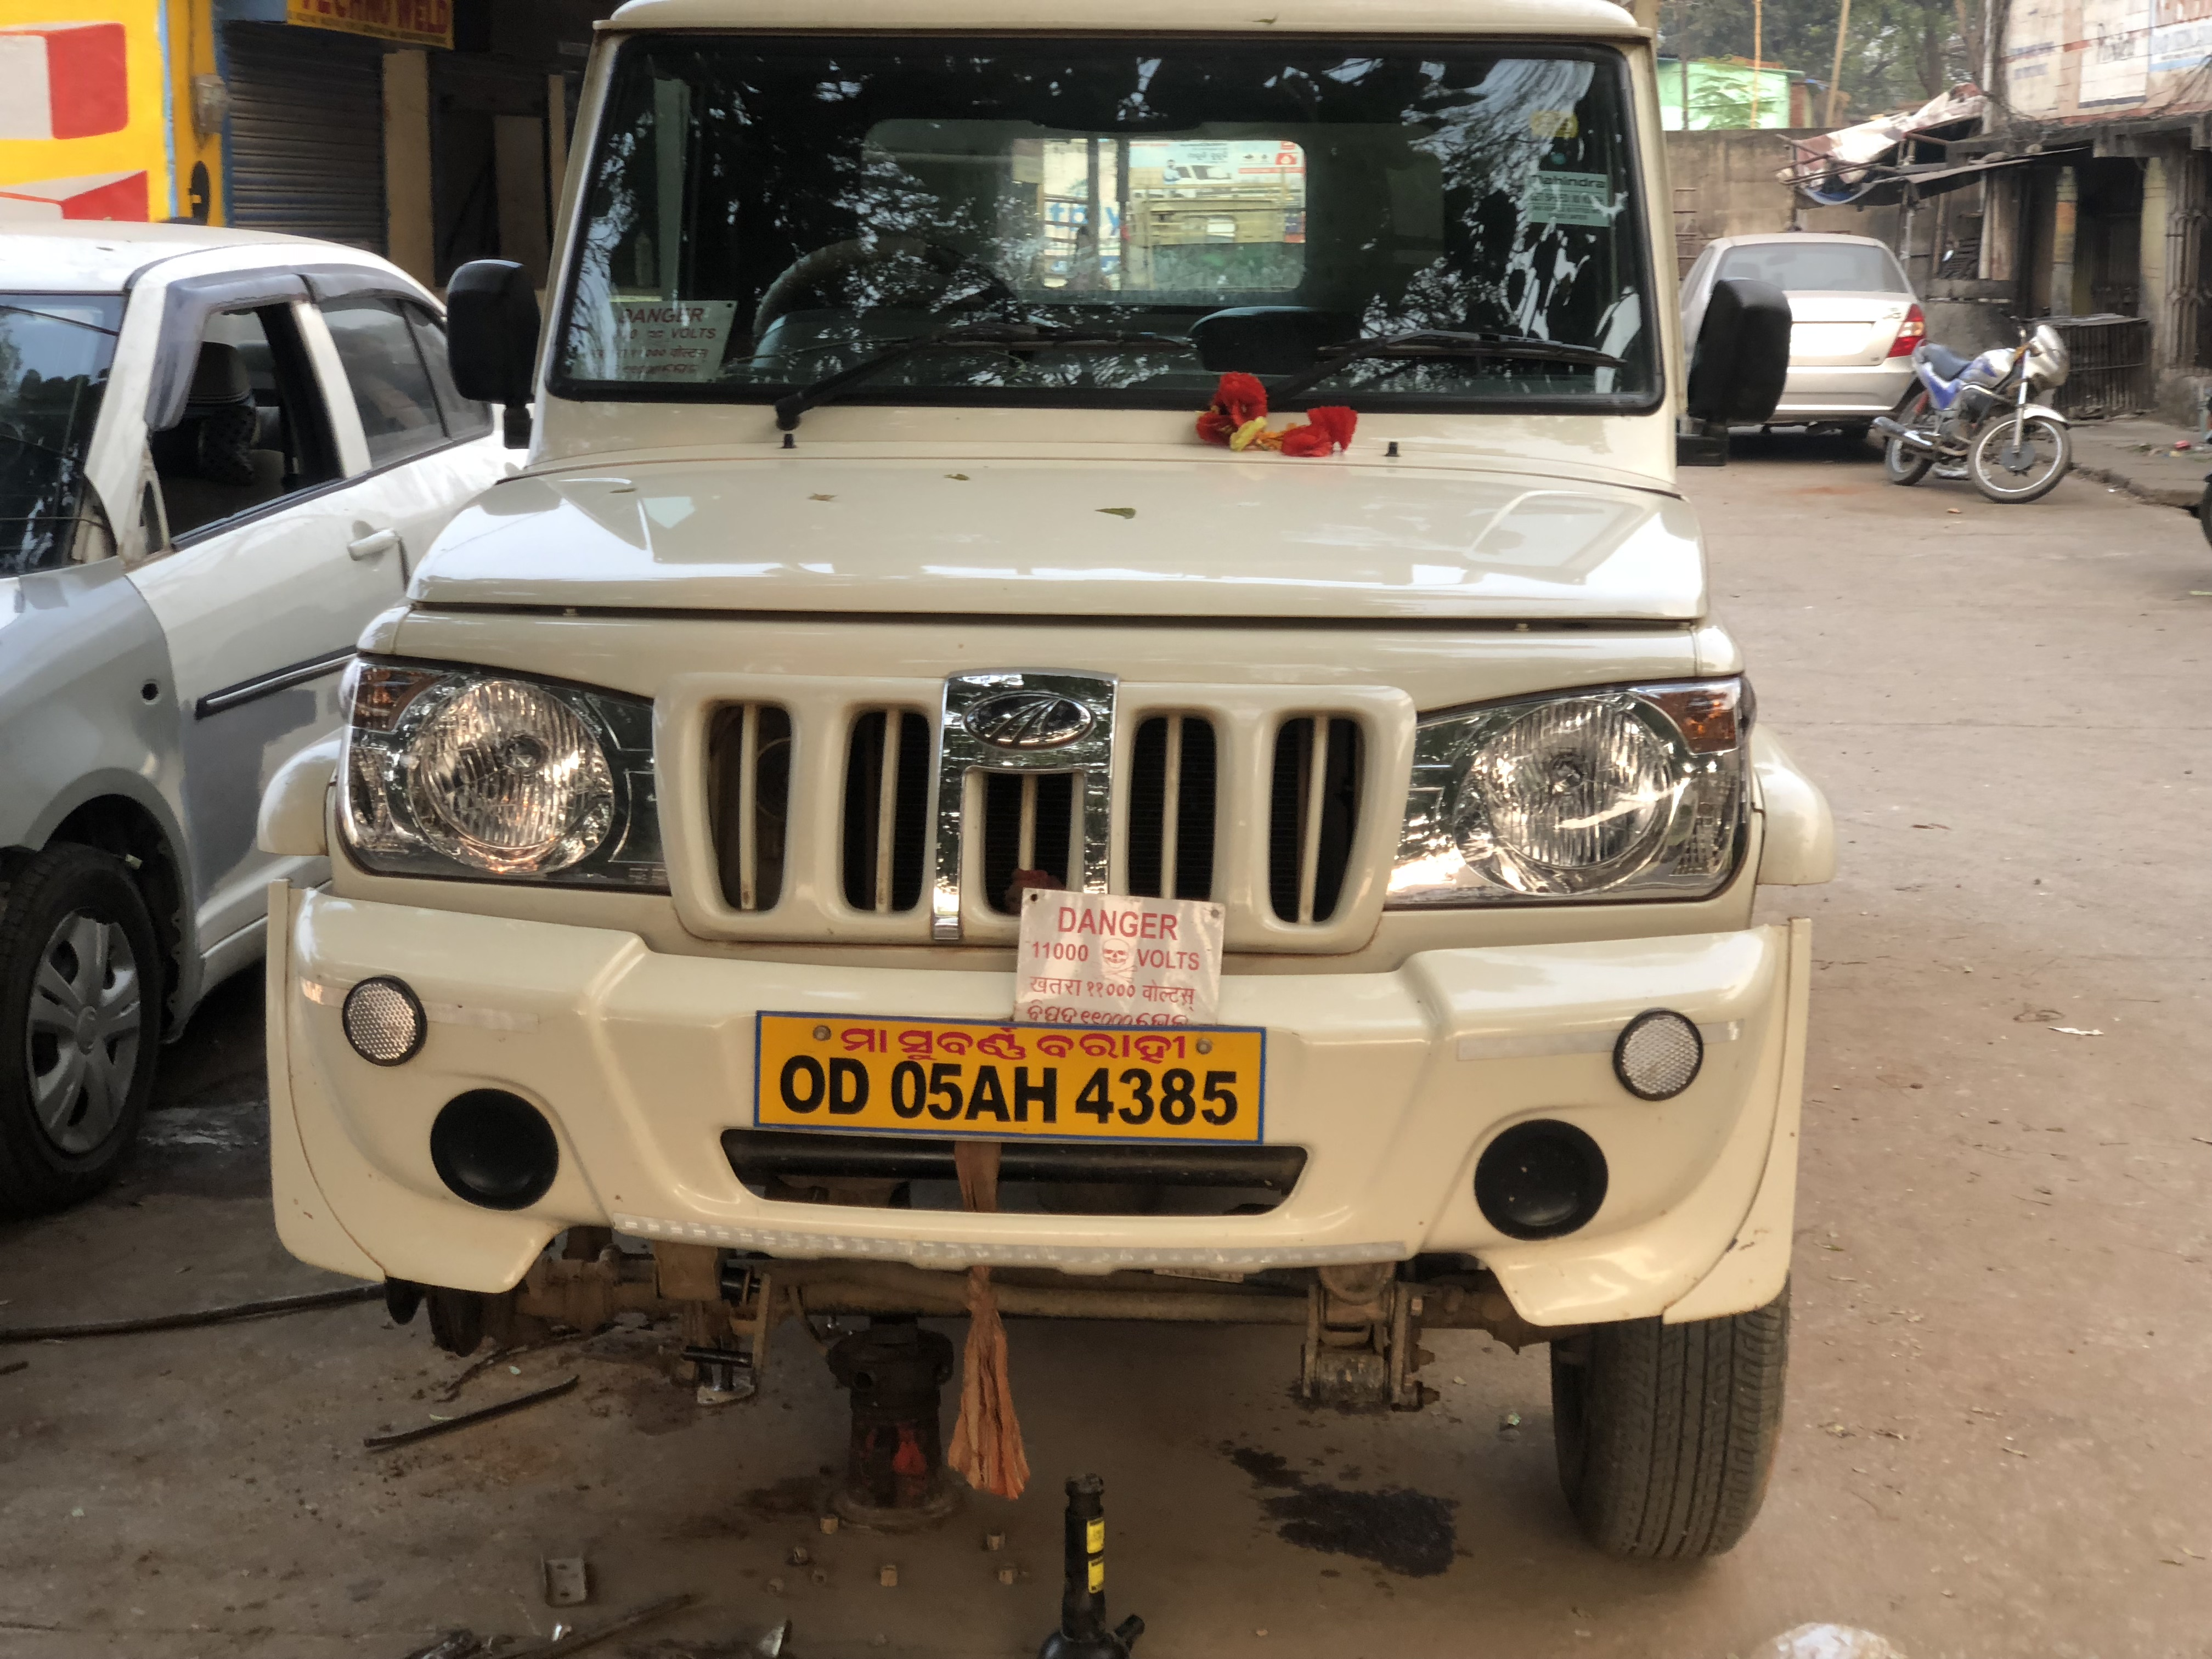licenseplate: (753, 1000, 1278, 1163)
